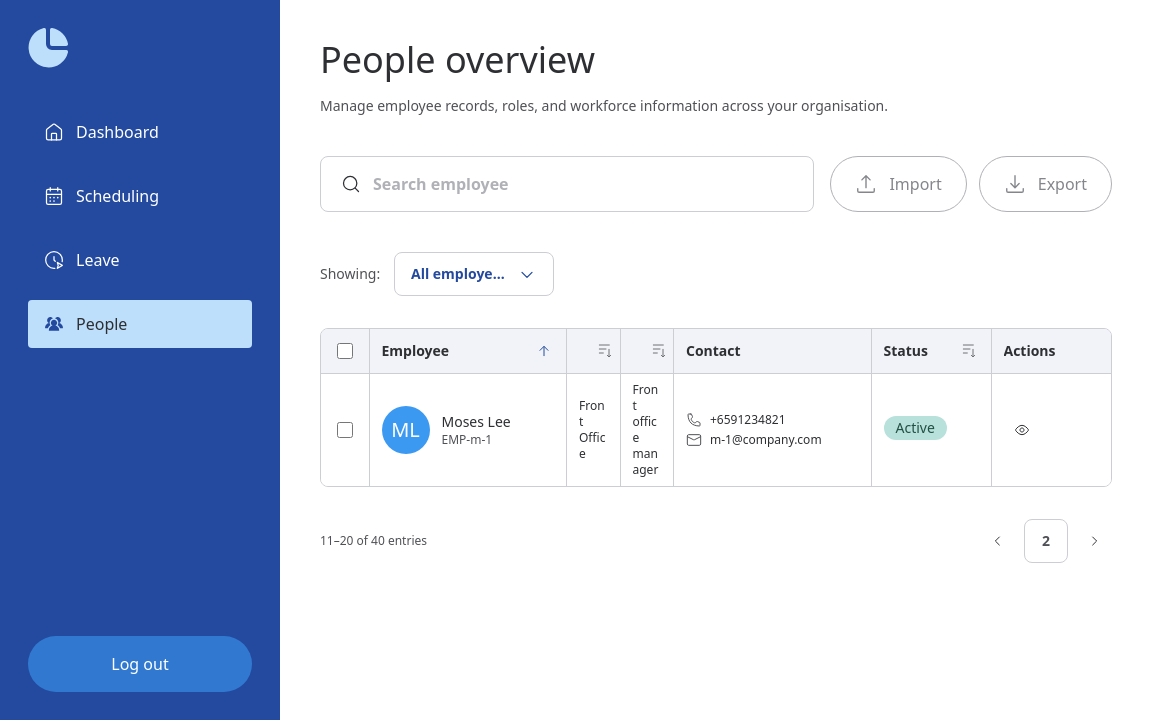
it: People › filters by one status, and by none when both or neither are ticked
Expected: the link "Moses Lee" is shown, [442, 412, 511, 432]
Click the button named "Showing:": (474, 274) [394, 252, 554, 296]
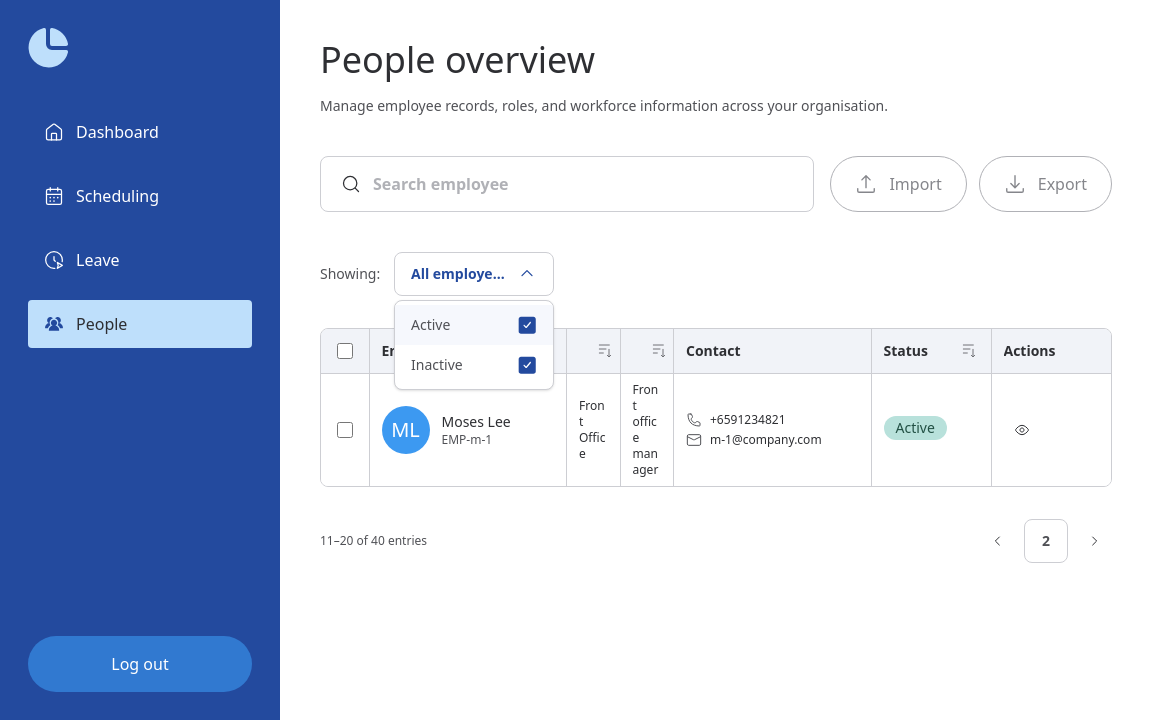
Click the option "Active": (474, 325) [395, 305, 553, 345]
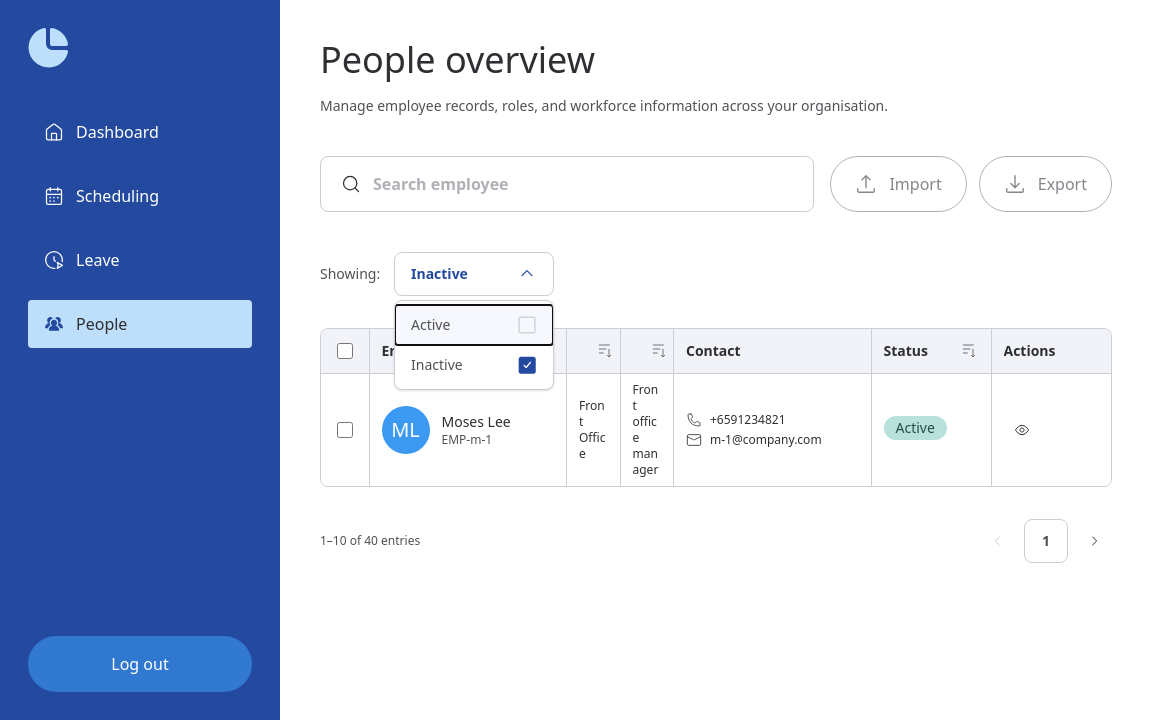
Result: the button named "Showing:" reads "Inactive" at [394, 252, 554, 296]
Click the option "Inactive": (437, 364) [411, 355, 537, 375]
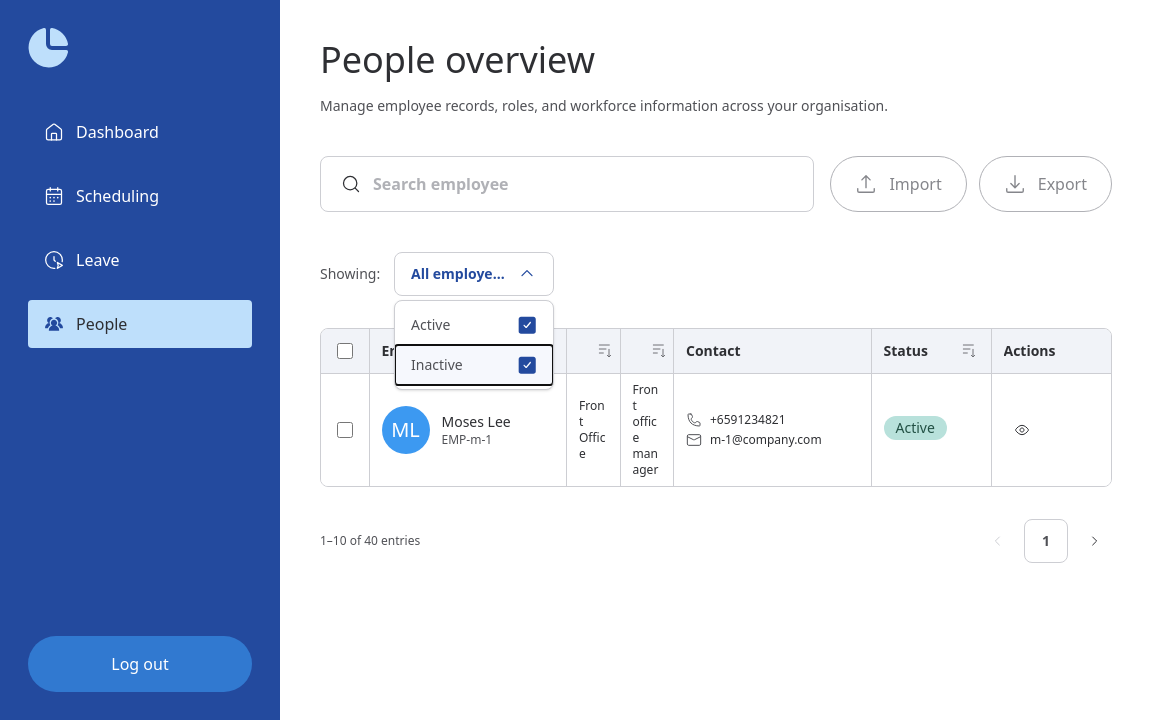
Result: the button named "Showing:" reads "All employees" at [394, 252, 554, 296]
